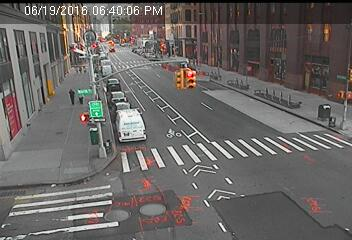neg: (168, 144, 191, 174), (59, 161, 79, 188), (277, 90, 297, 115), (227, 74, 245, 98), (223, 120, 241, 144), (250, 28, 267, 51), (190, 25, 206, 46), (313, 74, 328, 94), (102, 153, 117, 172), (25, 71, 39, 90), (277, 134, 291, 153), (203, 124, 216, 142), (136, 116, 149, 133), (140, 153, 153, 170), (34, 37, 46, 54), (182, 84, 194, 100), (30, 124, 42, 139), (153, 77, 164, 93), (159, 36, 170, 51), (54, 129, 65, 144), (106, 14, 116, 27), (69, 22, 77, 32)
pos: (74, 85, 88, 104), (63, 86, 76, 104), (71, 64, 79, 75), (77, 64, 84, 74), (81, 64, 88, 73)
